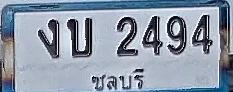2: (116, 16, 138, 56)
4: (142, 15, 162, 55), (192, 14, 212, 54)
9: (166, 15, 186, 54)
A07: (37, 18, 60, 58)
A26: (66, 17, 92, 57)
CBI: (84, 65, 149, 92)
